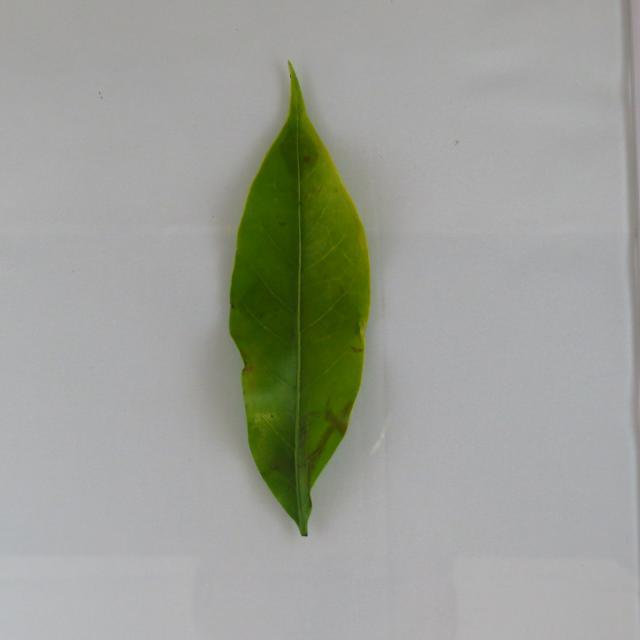DeficienciaNutricional-Nitrogeno: (227, 63, 371, 533)
